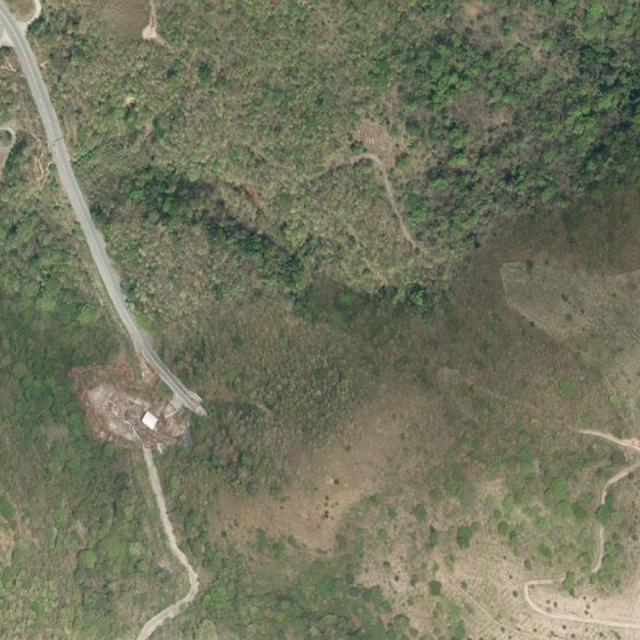landslide: (70, 352, 190, 447)
